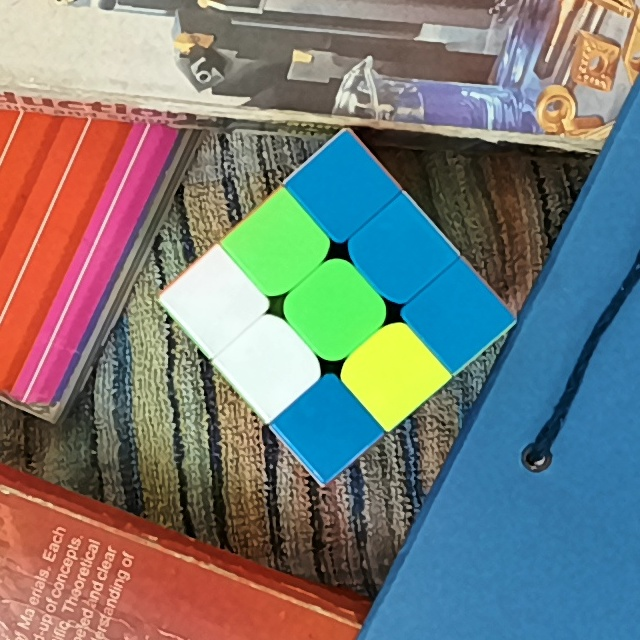tile: (372, 220, 427, 284), (304, 282, 361, 340), (313, 160, 372, 216), (250, 217, 305, 275), (366, 344, 420, 399), (188, 274, 241, 330), (435, 288, 487, 345), (300, 401, 356, 453), (241, 340, 296, 392)
